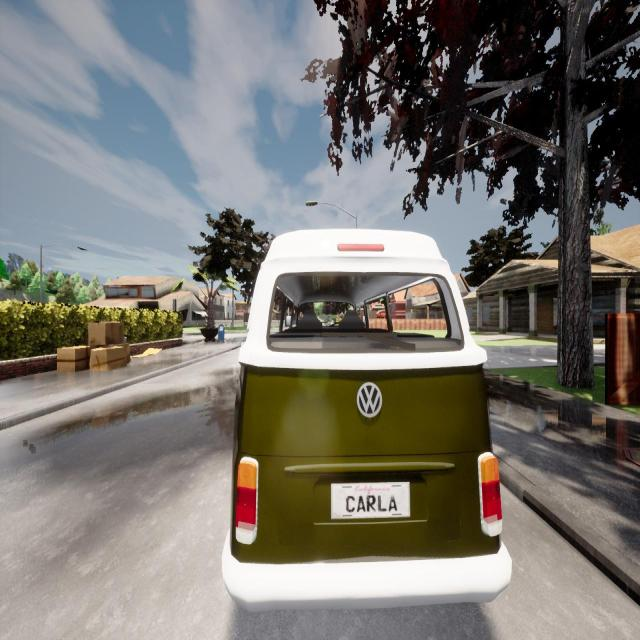Vehicle: (222, 229, 511, 610)
traffic_light: (173, 299, 176, 312)
